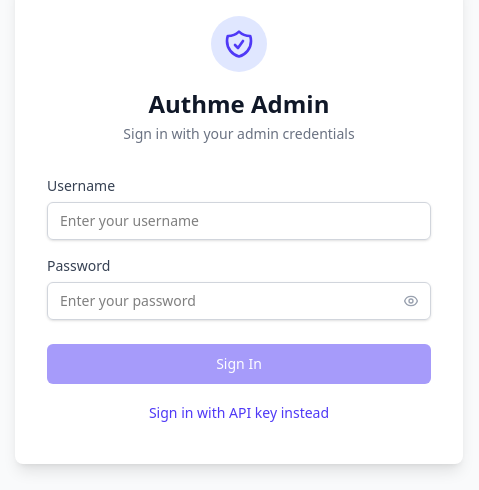
Scenario: LoginPage – API key mode › switches to API key mode when the toggle link is clicked
What coordinates should you click on to do the following:
click the button "Sign in with API key instead"
I would click on:
 (239, 413)
Its box is [149,403,329,423].
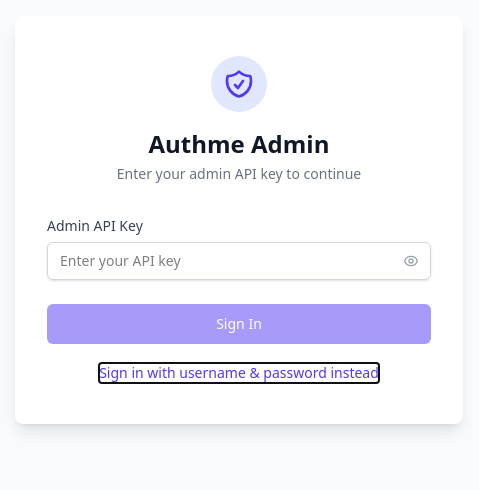
Expected: the text "Enter your admin API key to continue" is shown, [117,164,361,183]
Expected: the password field labelled "Admin API Key" is shown, [47,242,431,280]
